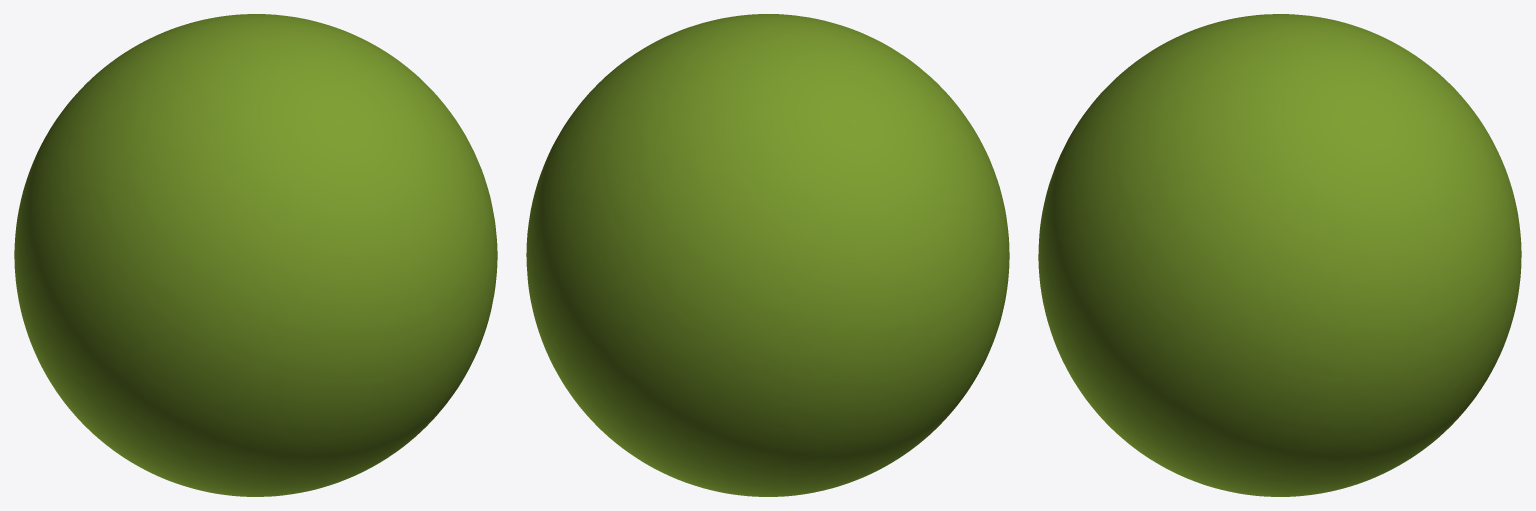
The model's file is bola-v1.glb.
3 views of the same model, side by side, from view 1: azimuth 30°, elevation 25°; view 2: azimuth 150°, elevation 25°; view 3: azimuth 270°, elevation 25° (orthographic).
Parts seen in each view (by area): view 1: Icosphere_0; view 2: Icosphere_0; view 3: Icosphere_0.
Boxes of the visible parts, x1,y1,x2,y2 form: Icosphere_0: (14,14,497,496); Icosphere_0: (526,14,1009,496); Icosphere_0: (1038,14,1521,496).
Size of the model in its own units: 2 by 2 by 2.
